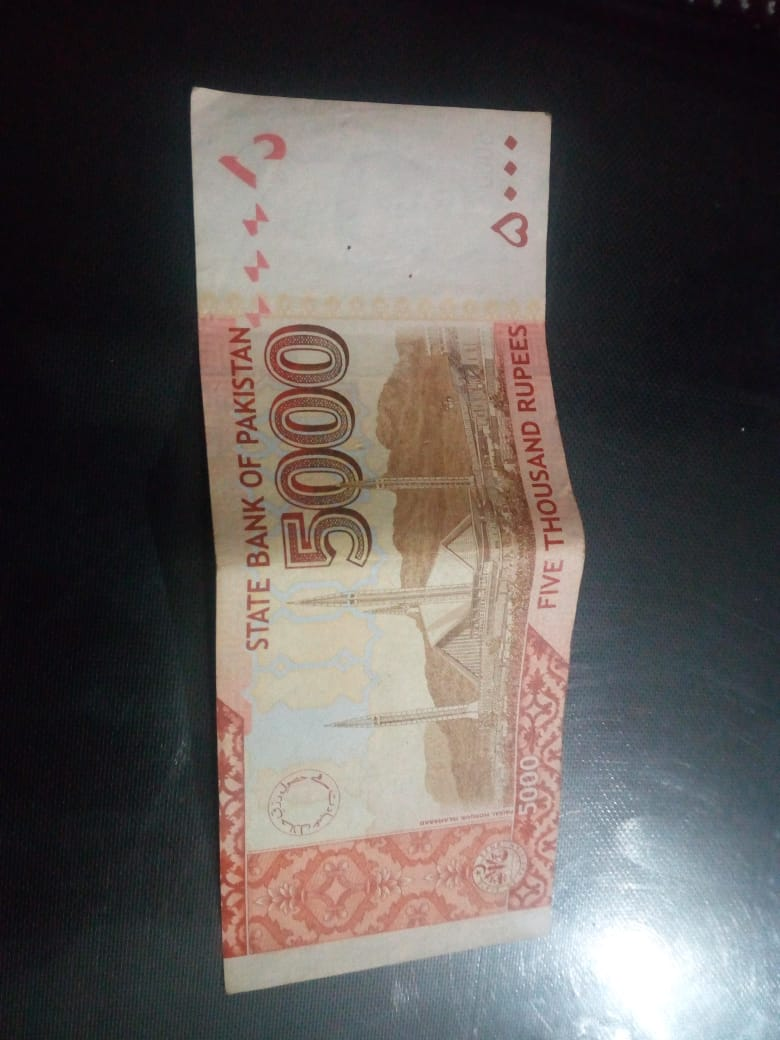5000 rupee: (182, 69, 596, 989)
